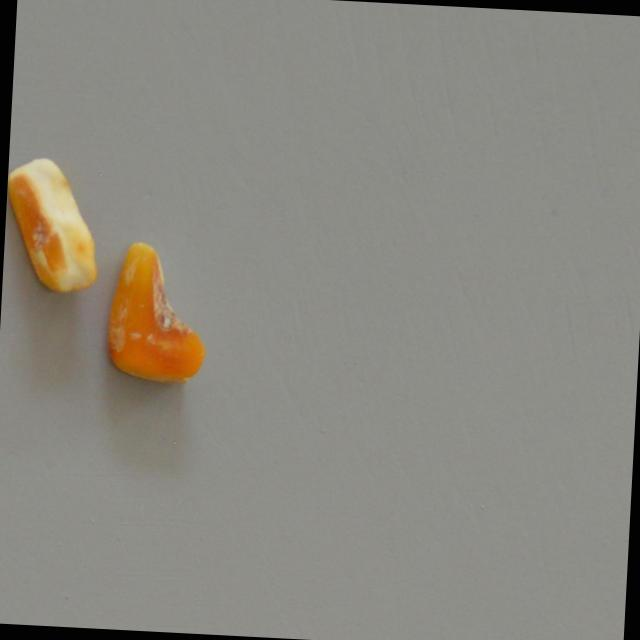dañado: (98, 237, 216, 391), (1, 151, 107, 302)
